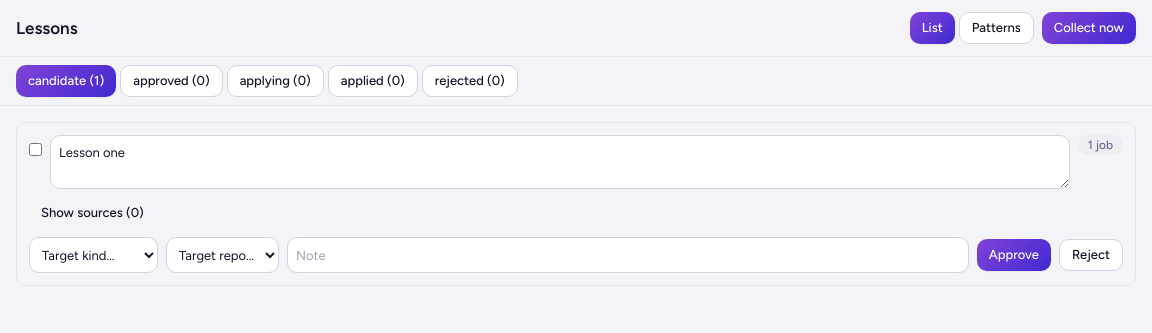
LessonsView › shows the API error when approving fails
Click the button "Approve" at (1014, 255), box [977, 239, 1051, 271]
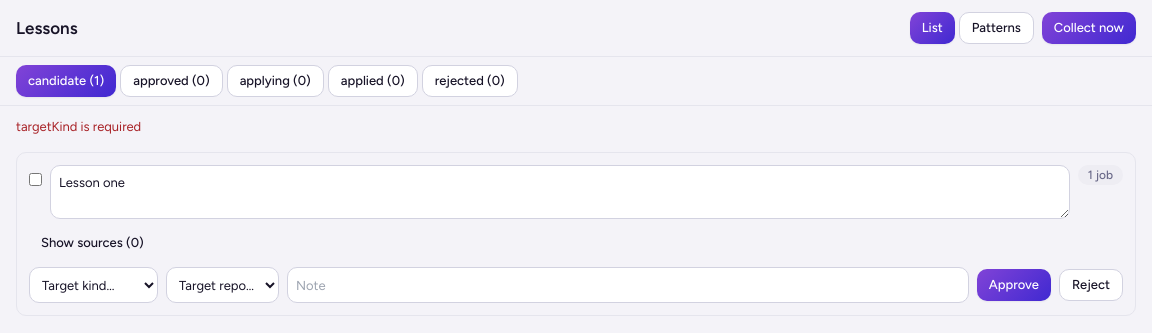
expect the message reads "targetKind is required": met, box [16, 119, 141, 134]
